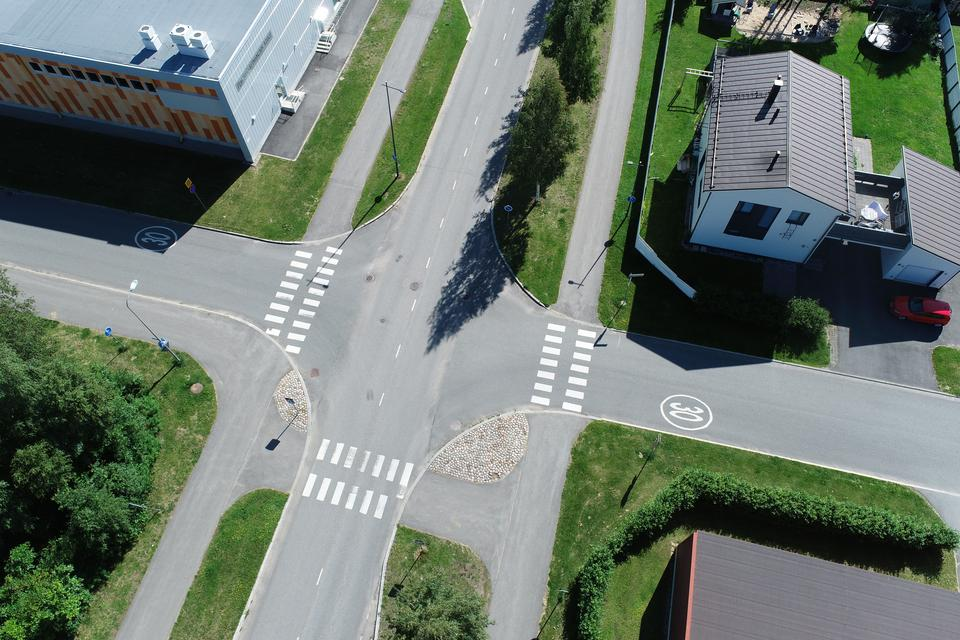intersection: (182, 204, 604, 547)
